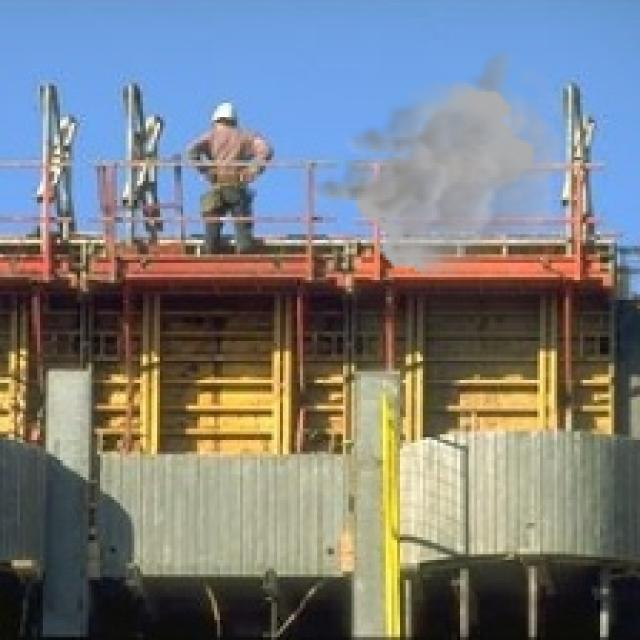smoke: (303, 49, 571, 280)
